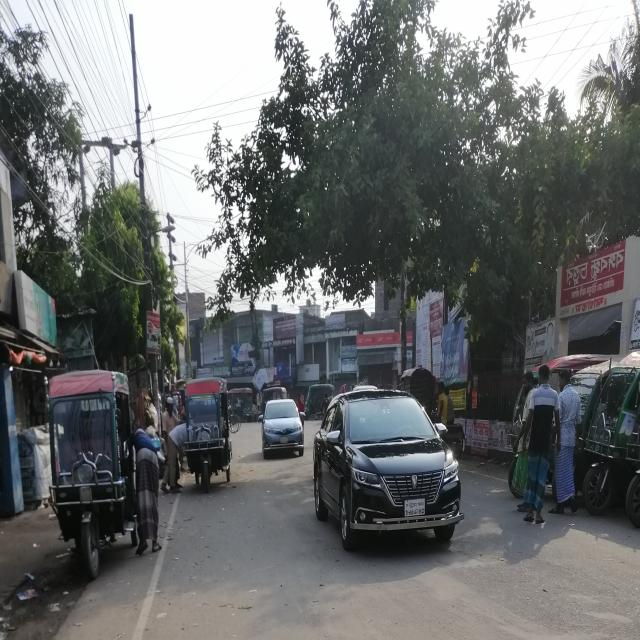Car: (311, 381, 466, 564), (259, 394, 310, 461)
Easybike: (183, 369, 233, 501)
